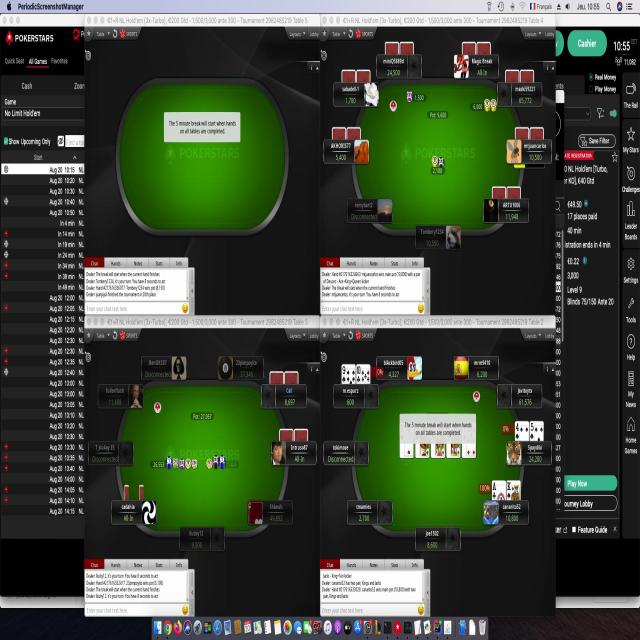10C: (355, 364, 362, 382)
2H: (398, 421, 405, 441)
4S: (516, 420, 520, 437)
5S: (529, 421, 535, 437)
9S: (342, 363, 348, 382)
AC: (492, 481, 498, 498)
KS: (506, 480, 511, 498)
